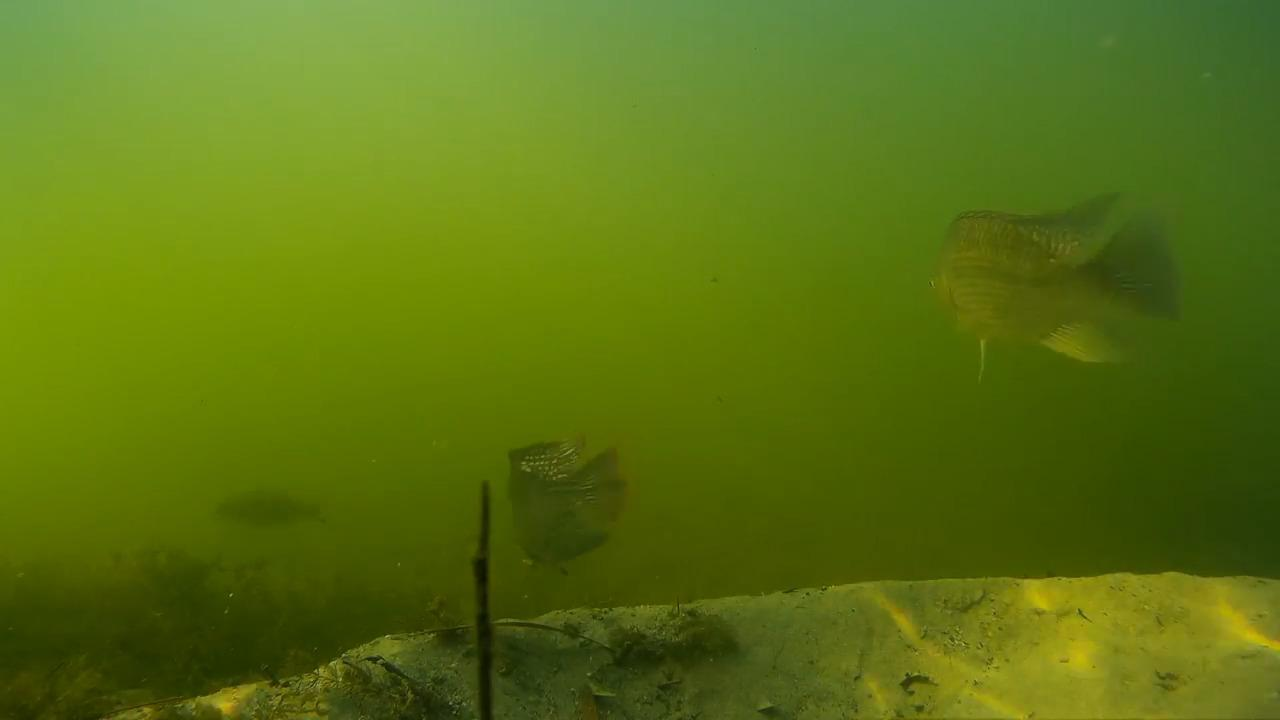Tilapia: (926, 192, 1189, 400), (498, 426, 649, 586), (196, 446, 361, 556)
